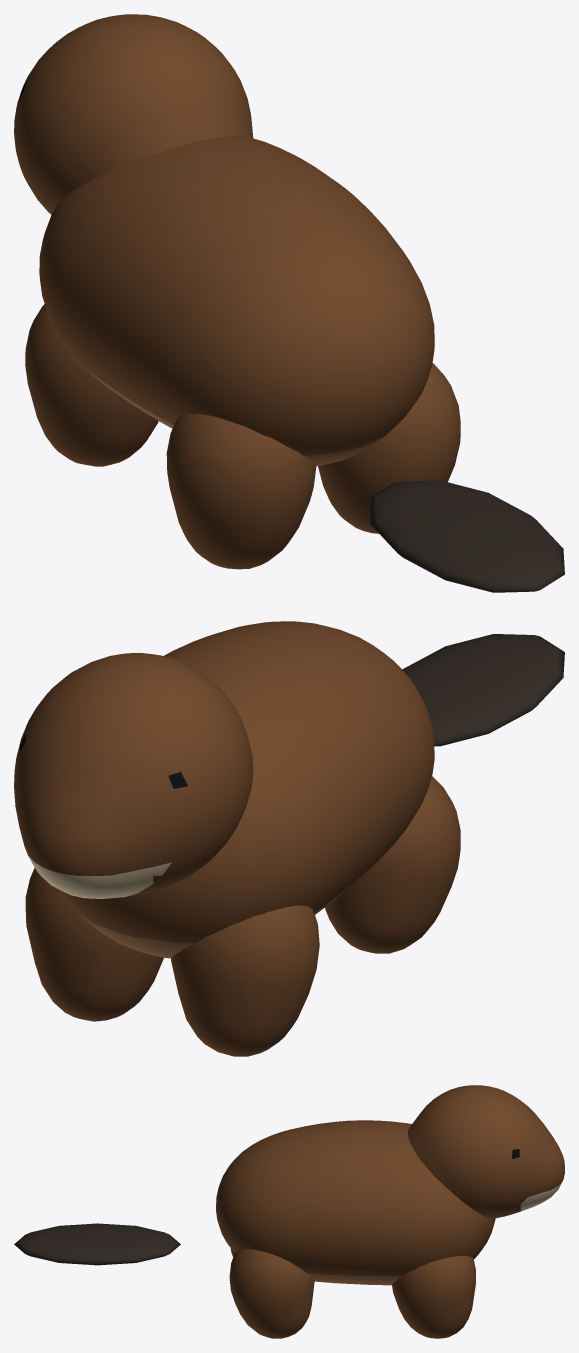
Rendered from animal_beaver.glb.
3 renders of one model, top to bottom at view 1: azimuth 30°, elevation 25°; view 2: azimuth 150°, elevation 25°; view 3: azimuth 270°, elevation 25°, orthographic. The views are drawn at different scales.
Parts seen in each view (by area): view 1: Body, Head, LegBL, Tail, LegFL, LegBR; view 2: Body, Head, LegFL, LegBL, Tail, LegFR; view 3: Body, Head, LegBR, Tail, LegFR.
Boxes of the visible parts, left/top/right/bottom form: Body: left=39, top=135, right=434, bottom=466; Head: left=14, top=14, right=253, bottom=214; LegBL: left=166, top=413, right=316, bottom=569; Tail: left=369, top=480, right=564, bottom=592; LegFL: left=25, top=304, right=158, bottom=466; LegBR: left=318, top=363, right=460, bottom=533; Body: left=60, top=621, right=434, bottom=958; Head: left=14, top=653, right=253, bottom=898; LegFL: left=171, top=905, right=319, bottom=1056; LegBL: left=325, top=776, right=460, bottom=953; Tail: left=402, top=634, right=564, bottom=746; LegFR: left=25, top=868, right=163, bottom=1021; Body: left=216, top=1120, right=495, bottom=1285; Head: left=408, top=1085, right=564, bottom=1218; LegBR: left=229, top=1249, right=314, bottom=1338; Tail: left=14, top=1223, right=180, bottom=1265; LegFR: left=392, top=1255, right=475, bottom=1338.
Size of the model in its own units: 0.5323 by 0.7172 by 1.6.
